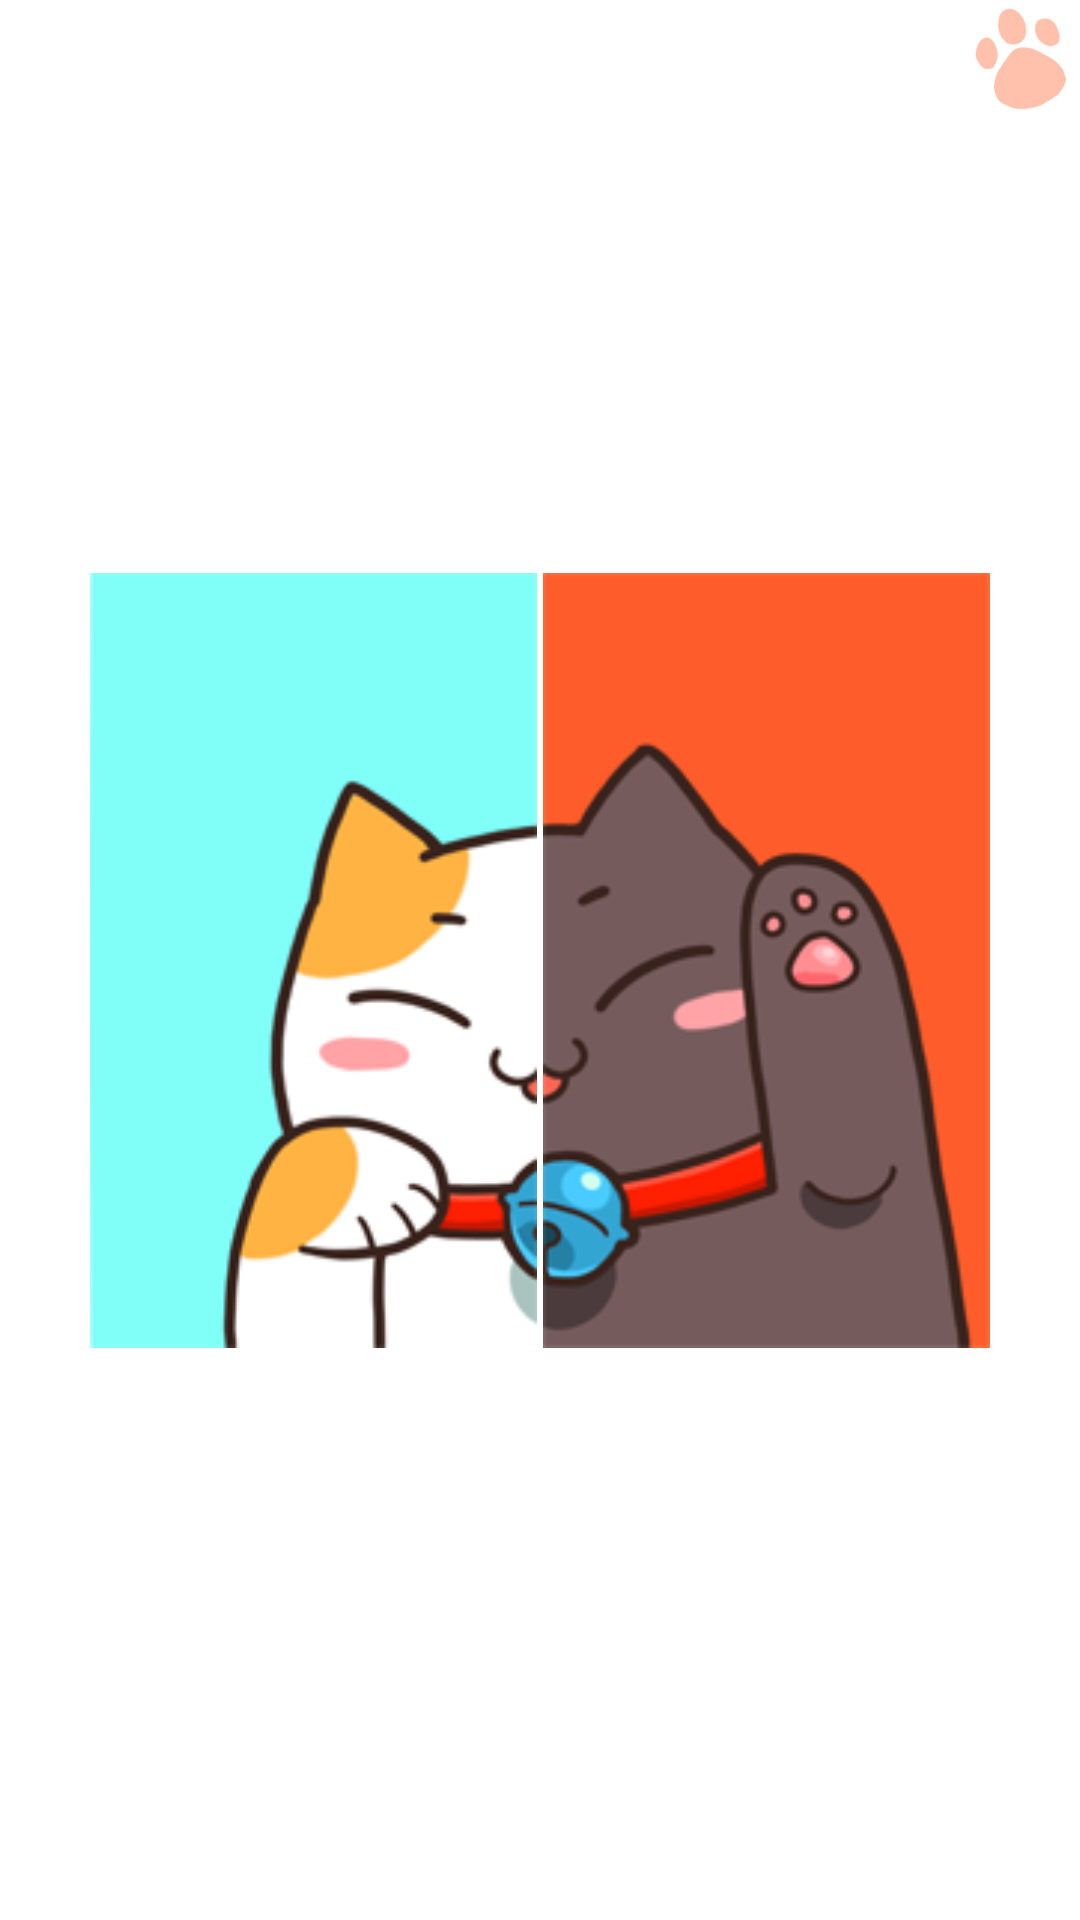

Icons on this 1080x1920 Android screen, each with the point to tap as [x,y]:
zhua: [1020,59]
